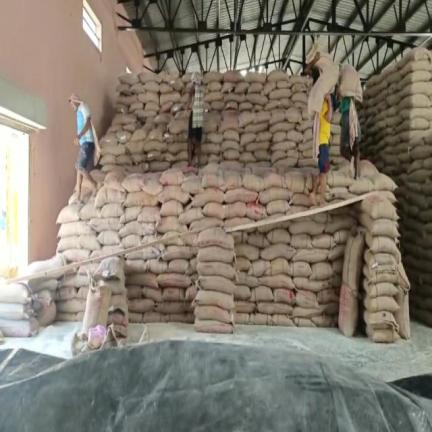Zone-Counting: (310, 71, 334, 203)
